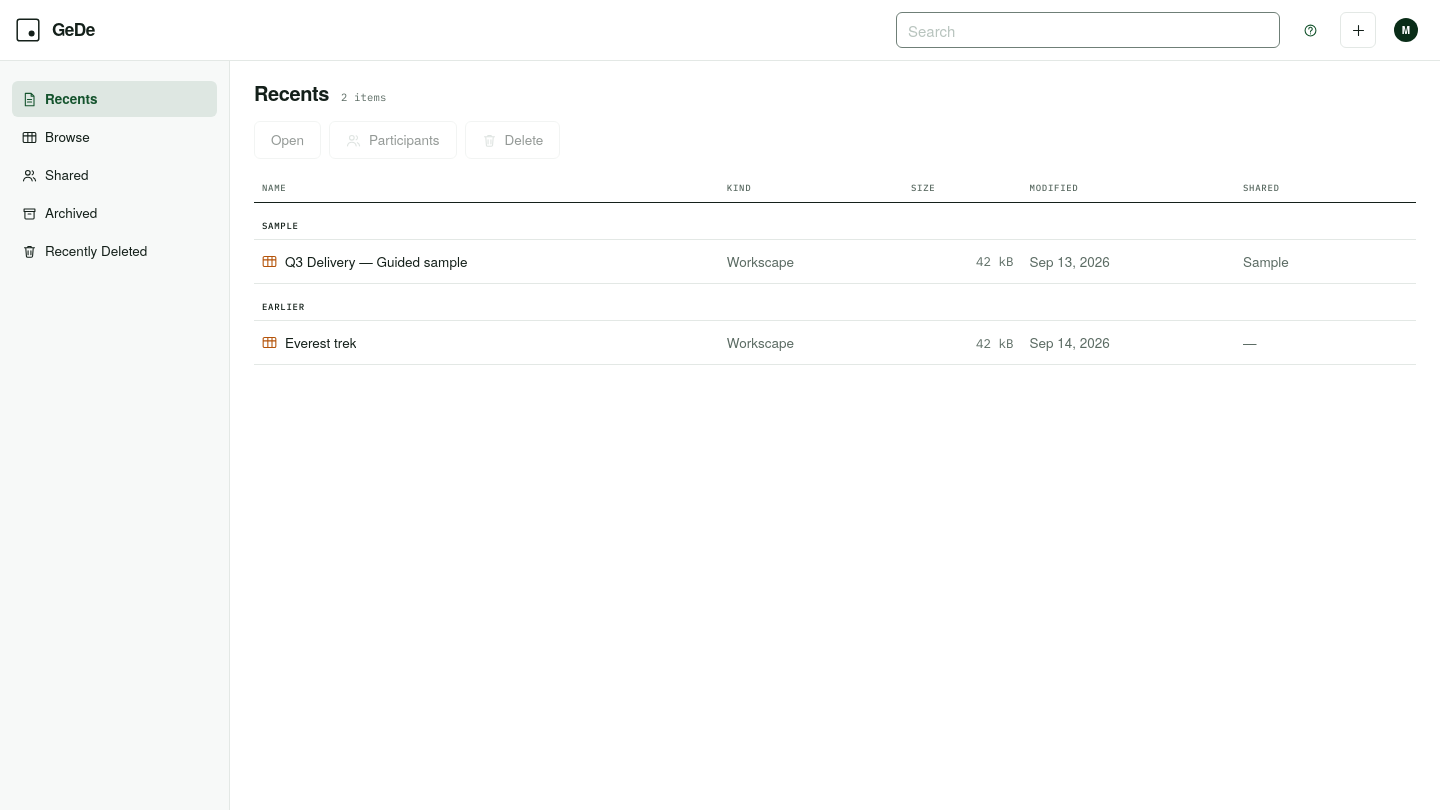
TourController › ONB-08 ONB-03 Replay then Skip write the flag in order: false, then true, never overlapping
Expected: the text "Everest trek" is shown, [285,332,356,354]
Step 1. Click the button named "Help" → (1310, 30), box [1292,12,1328,48]
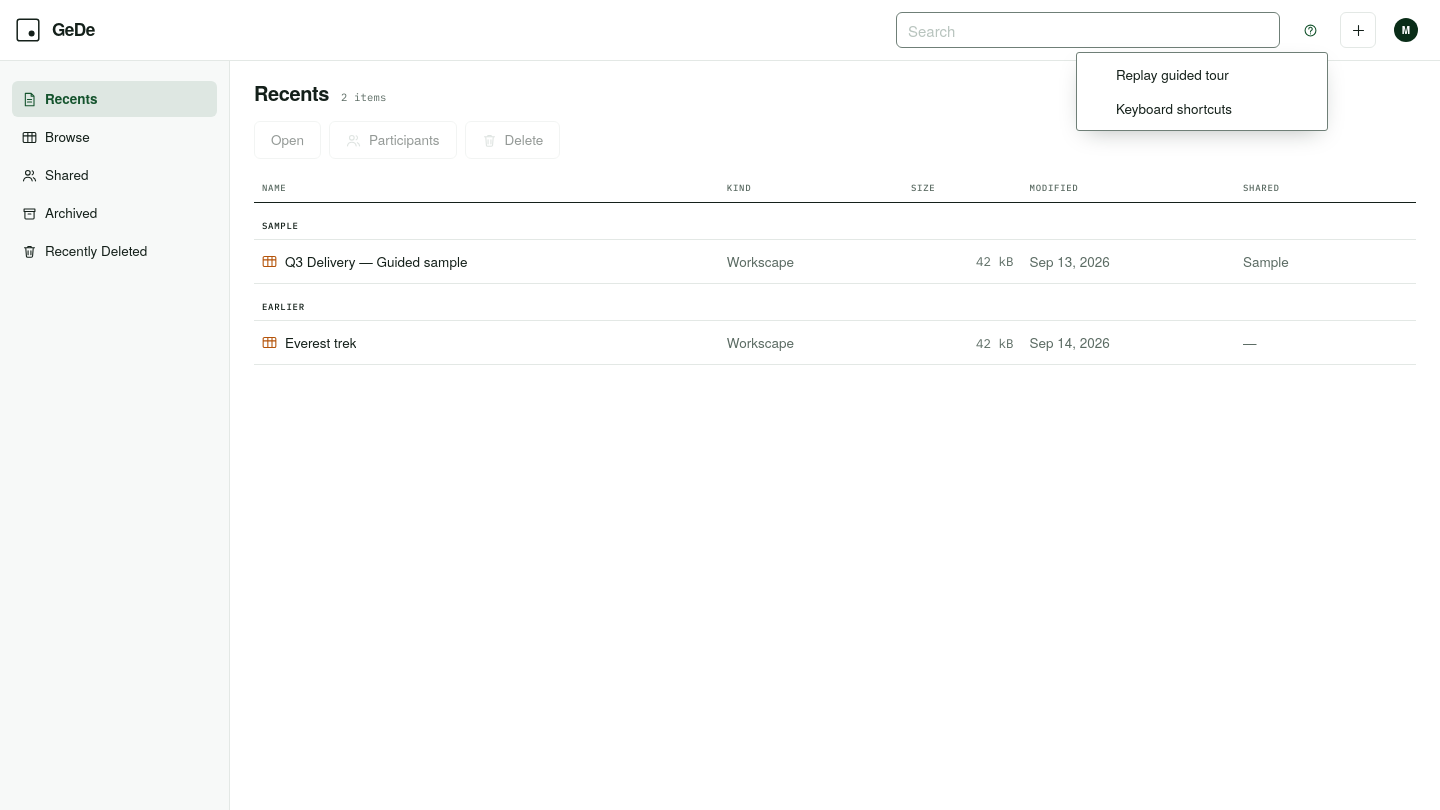
Step 2. Click the menu item "Replay guided tour" → (1172, 74), box [1116,65,1229,84]
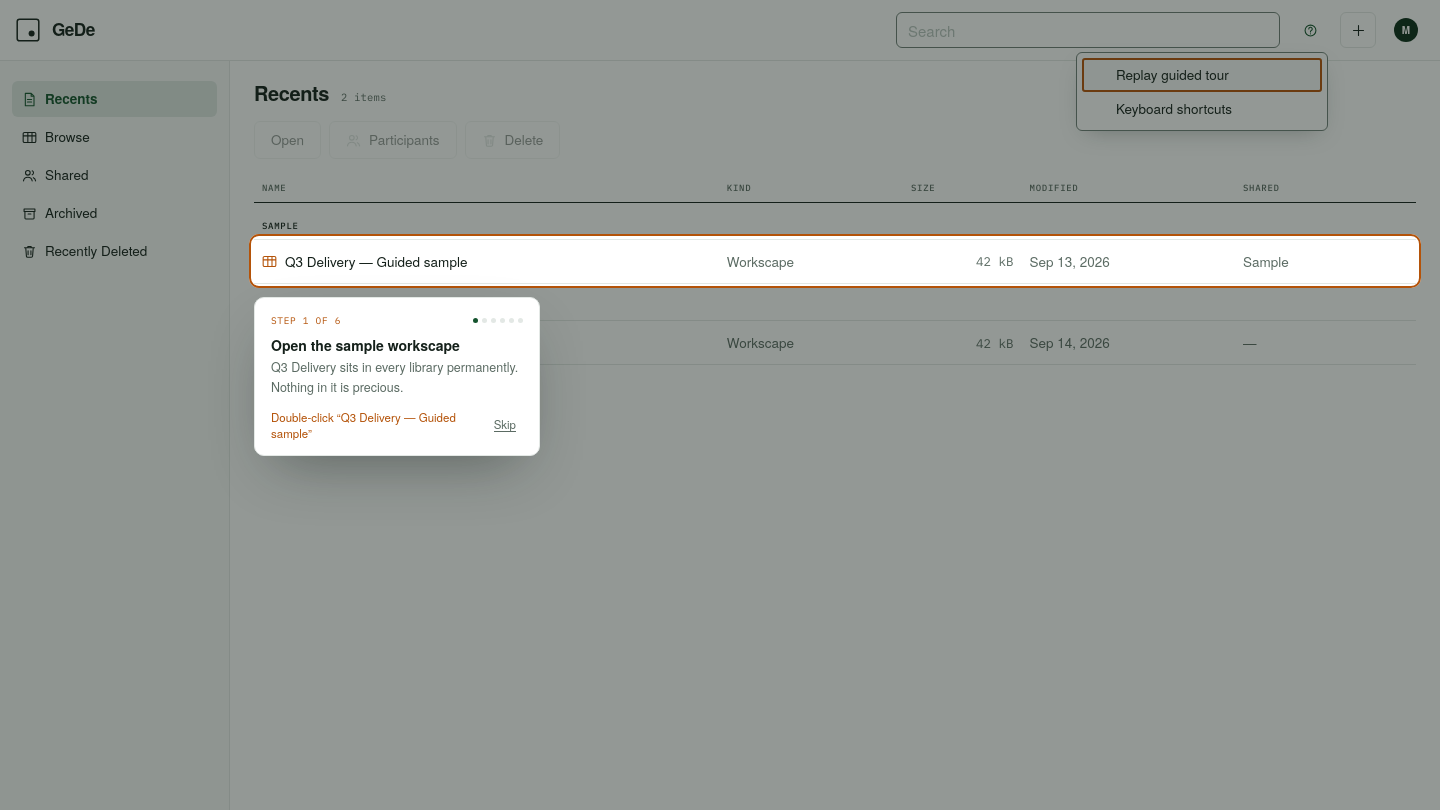
Step 3. Click the button "Skip" → (505, 425), box [487,411,523,439]
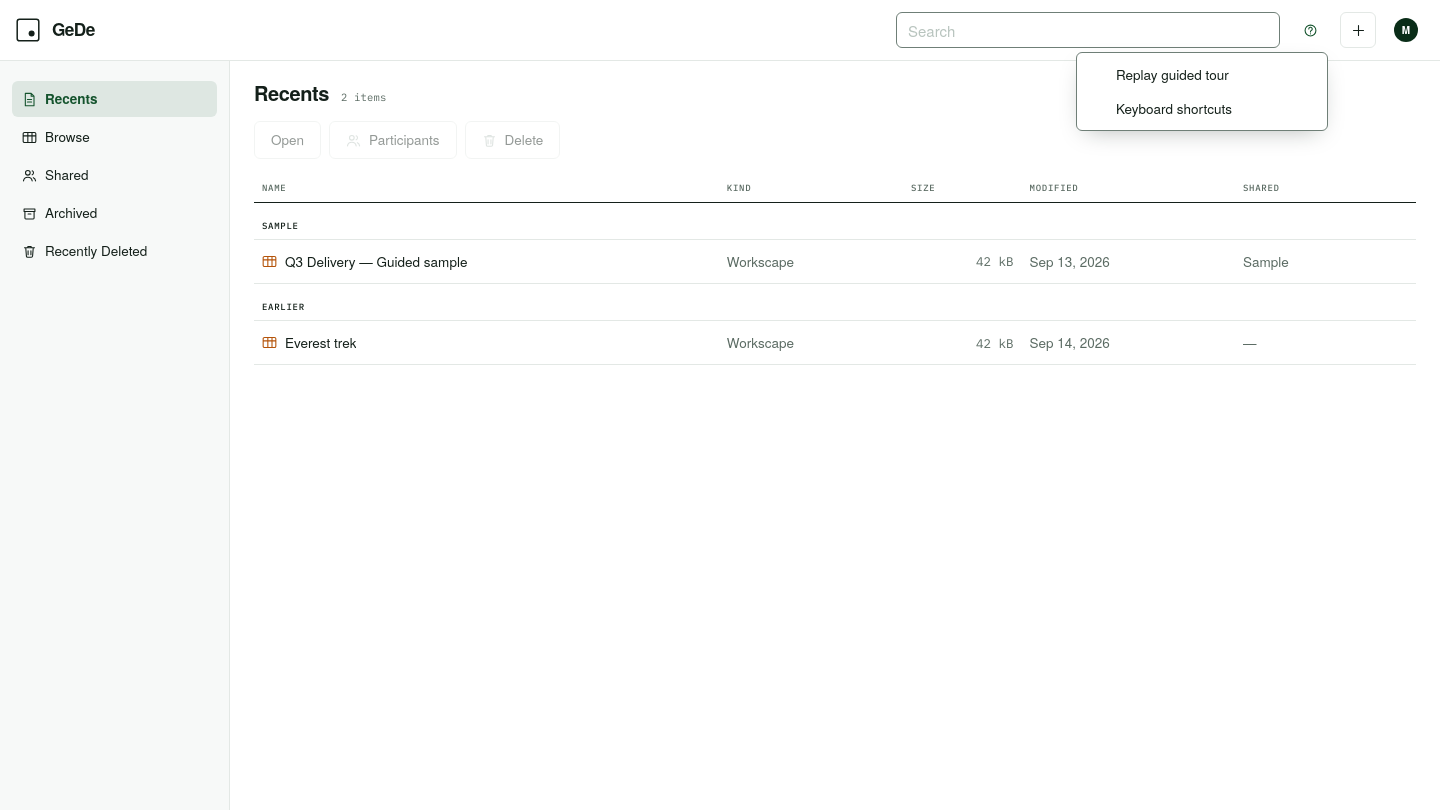
Result: the dialog is gone
